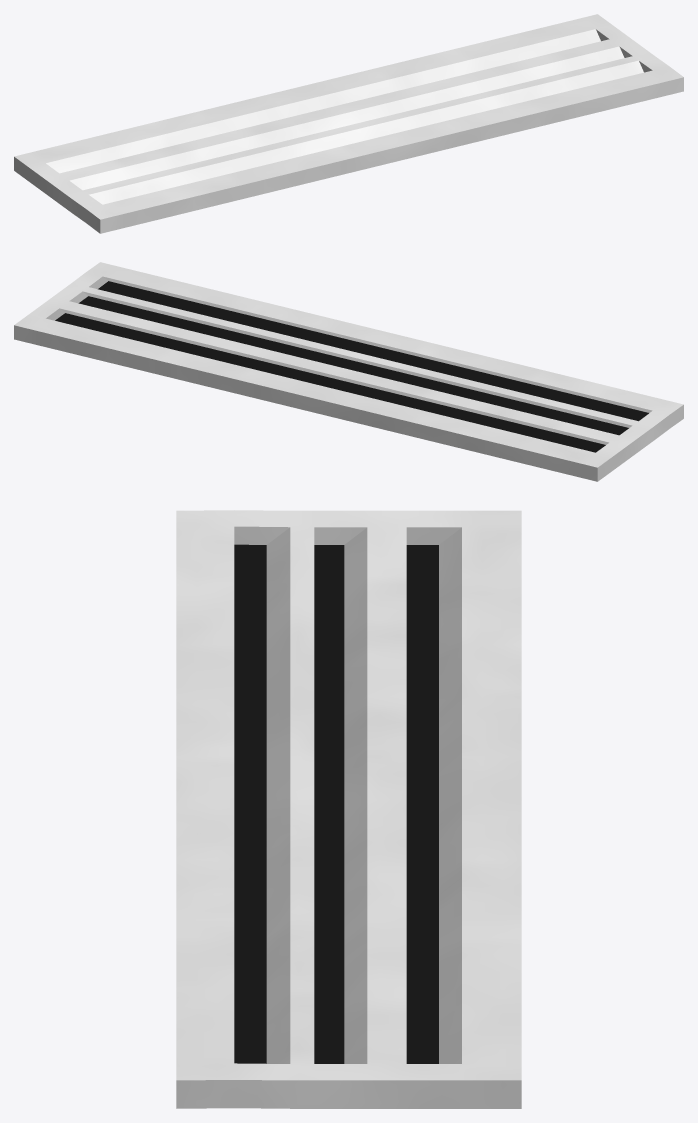
The model's file is SM_Vents.obj.
3 views of the same model, one above another, from view 1: azimuth 30°, elevation 25°; view 2: azimuth 150°, elevation 25°; view 3: azimuth 270°, elevation 25° (orthographic). The views are drawn at different scales.
Parts seen in each view (by area): view 1: SM_Vents10; view 2: SM_Vents10; view 3: SM_Vents10.
Boxes of the visible parts, <box> form: SM_Vents10: <box>14,14,683,233</box>; SM_Vents10: <box>14,262,683,481</box>; SM_Vents10: <box>176,510,521,1108</box>.
Size of the model in its own units: 0.5175 by 0.0123 by 0.1325.
Materials: 2 (1 with a texture image).
